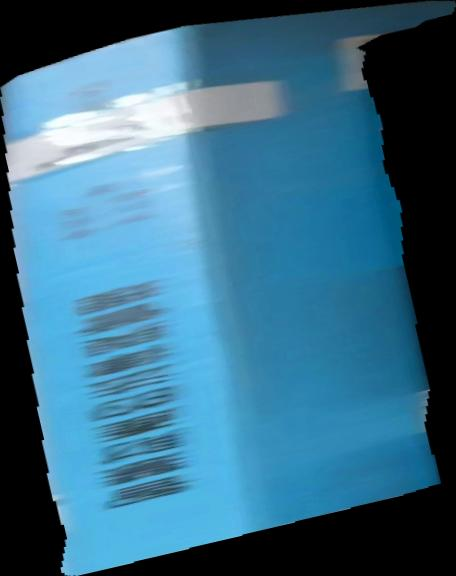reverse: (1, 1, 456, 576)
